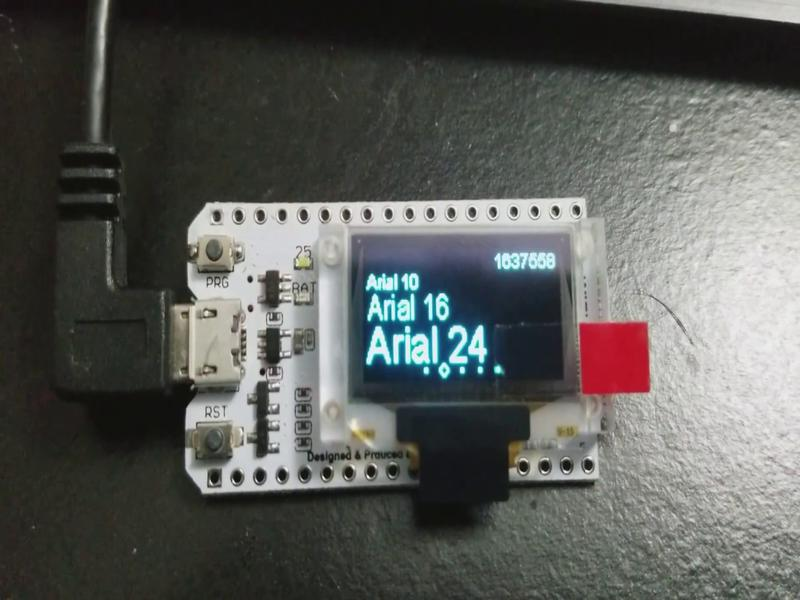Heltec_ESP32_Lora: (178, 190, 613, 496)
